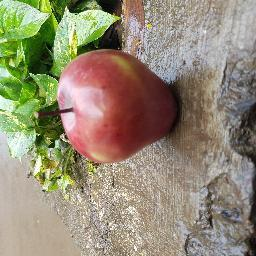Good_apple: (57, 46, 179, 163)
